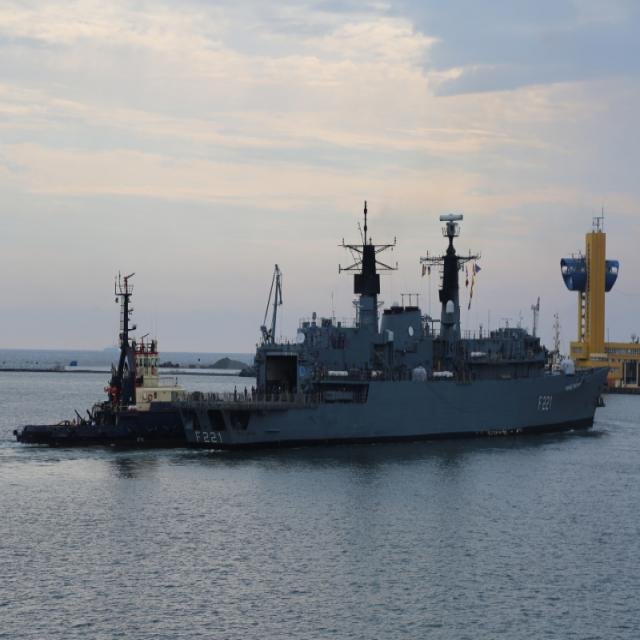Fragata: (174, 169, 614, 460)
